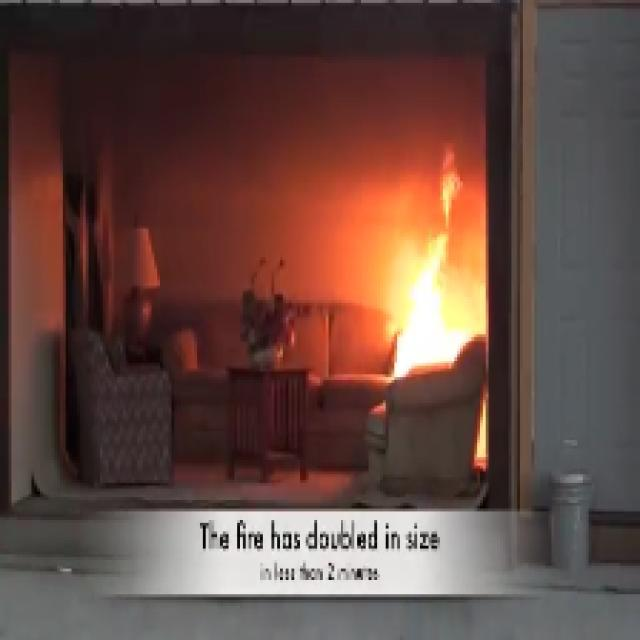Fire: (386, 166, 472, 374)
